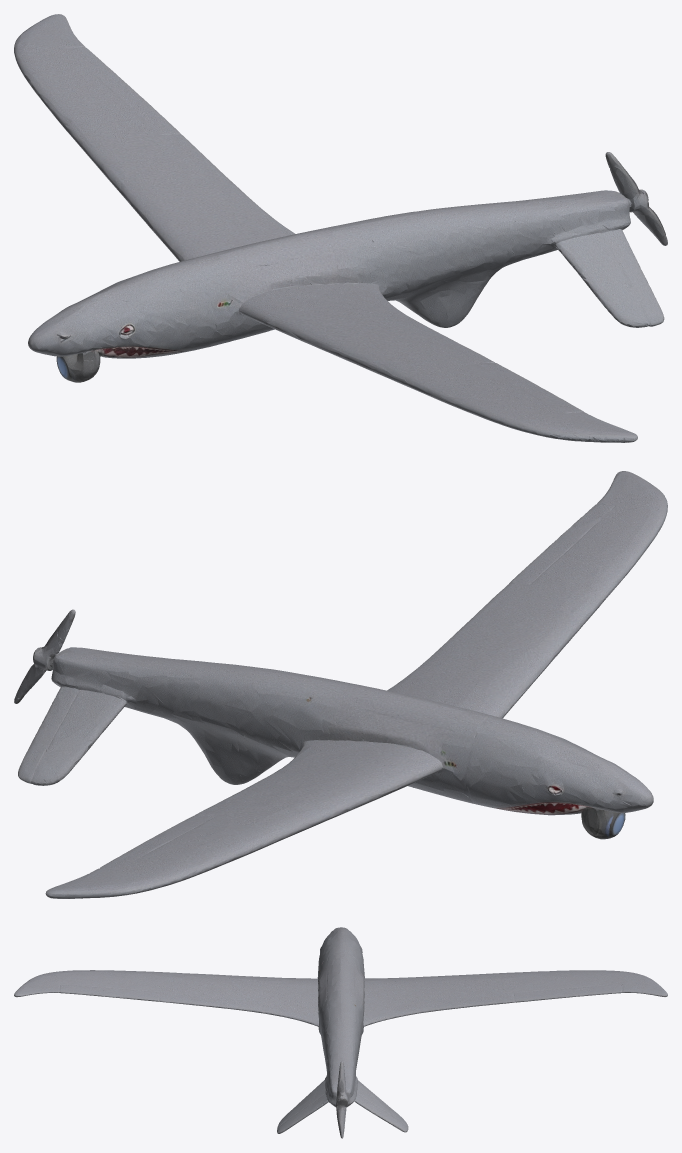
The model's file is shark.glb.
The picture shows the model from 3 angles, top to bottom: view 1: azimuth 30°, elevation 25°; view 2: azimuth 150°, elevation 25°; view 3: azimuth 270°, elevation 25°; orthographic projection. The views are drawn at different scales.
Parts seen in each view (by area): view 1: mesh_node; view 2: mesh_node; view 3: mesh_node.
Part boxes in pixels (box(x1,y1,x2,y2)): mesh_node: box(14, 14, 667, 442); mesh_node: box(14, 471, 667, 898); mesh_node: box(14, 927, 667, 1138).
Size of the model in its own units: 1.21 by 0.2475 by 1.91.
Materials: 1 (1 with a texture image).
